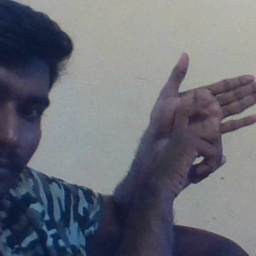R: (144, 51, 256, 189)
